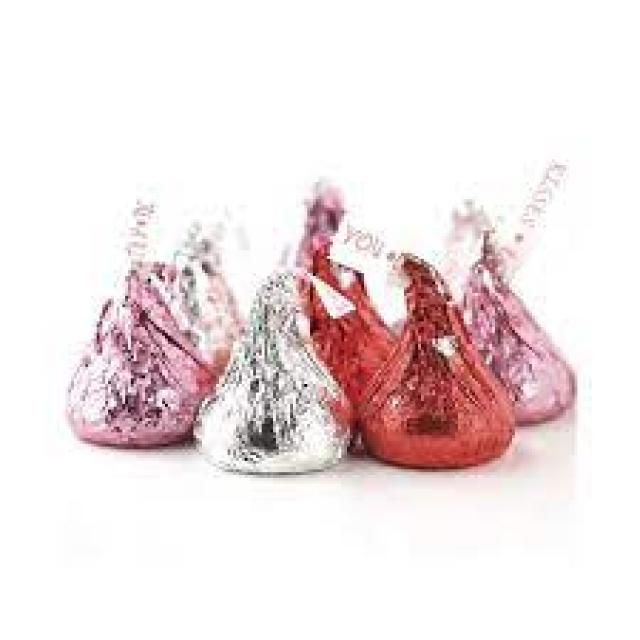kisses: (178, 257, 357, 480)
